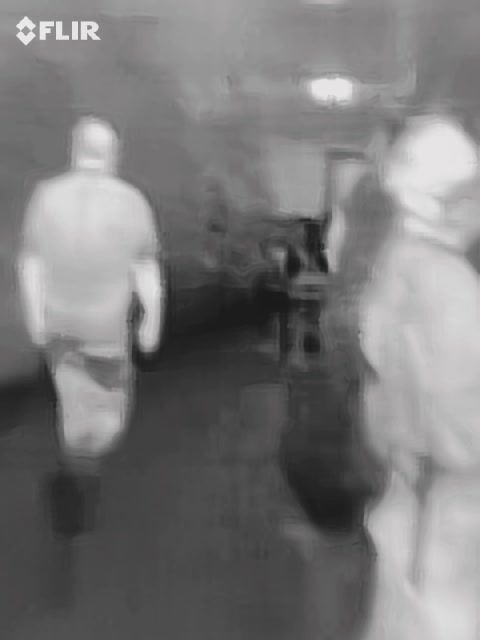head: (378, 114, 480, 239), (71, 119, 112, 172)
